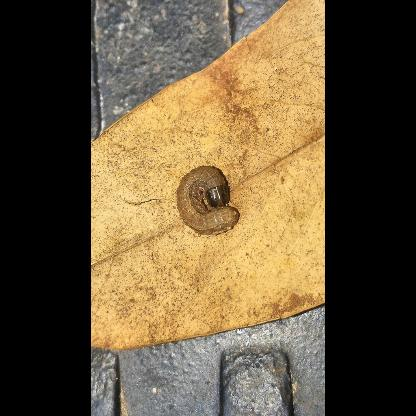Fall Armyworm Larvae: (174, 162, 246, 240)
